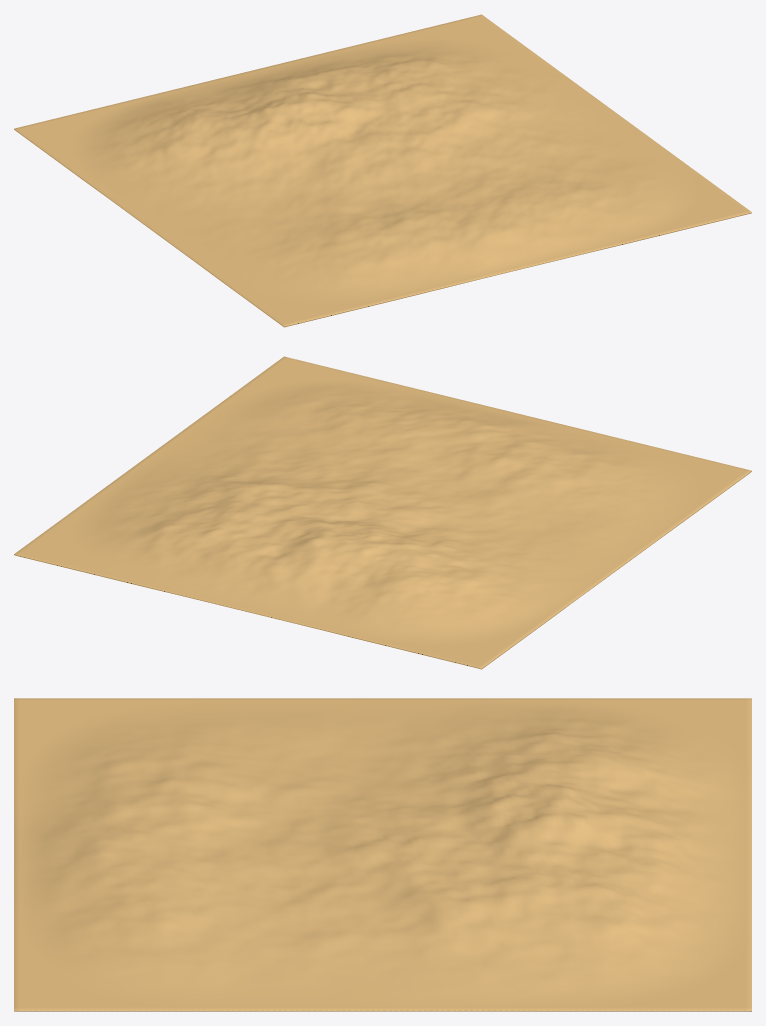
File: Terrain.fbx
3 renders of one model, top to bottom at view 1: azimuth 30°, elevation 25°; view 2: azimuth 150°, elevation 25°; view 3: azimuth 270°, elevation 25°, orthographic. The views are drawn at different scales.
Visible parts, largest first — view 1: Landscape; view 2: Landscape; view 3: Landscape.
Boxes of the visible parts, left/top/right/bottom form: Landscape: left=14, top=14, right=751, bottom=327; Landscape: left=14, top=356, right=751, bottom=669; Landscape: left=14, top=698, right=751, bottom=1011.
Bounding box in the file's own units: 134254 × 7332 × 134254.
